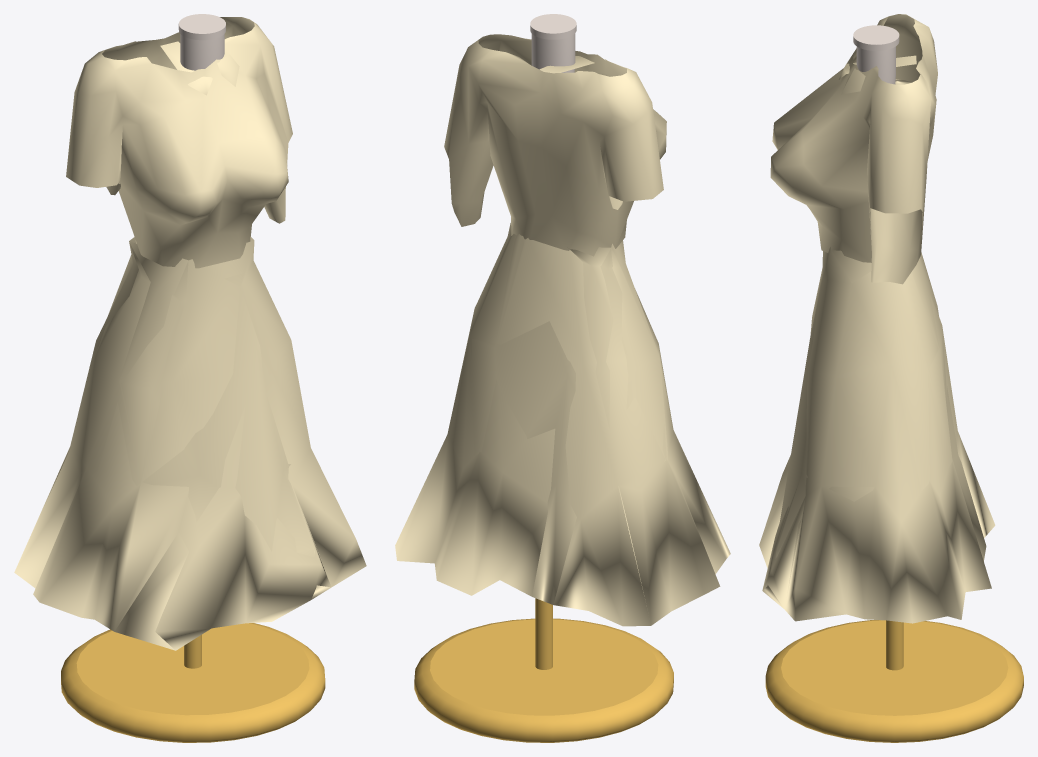
The model's file is rain.dress.ivory-midi.lod1.glb.
3 renders of one model, left to right at view 1: azimuth 30°, elevation 25°; view 2: azimuth 150°, elevation 25°; view 3: azimuth 270°, elevation 25°, orthographic. The views are drawn at different scales.
Parts seen in each view (by area): view 1: Tailored.Dress.ivory-midi.Fabric, Tailored.Dress.ivory-midi.Blouse, stand_base, stand_torso, Tailored.Dress.ivory-midi.FoldedCollar, stand_neck_cap; view 2: Tailored.Dress.ivory-midi.Fabric, Tailored.Dress.ivory-midi.Blouse, stand_base, stand_torso, stand_stem, stand_neck_cap; view 3: Tailored.Dress.ivory-midi.Fabric, Tailored.Dress.ivory-midi.Blouse, stand_base, stand_torso, stand_neck_cap, stand_stem, Tailored.Dress.ivory-midi.FoldedCollar.
Boxes of the visible parts, x1=… form: Tailored.Dress.ivory-midi.Fabric: x1=14, y1=236, x2=366, y2=650; Tailored.Dress.ivory-midi.Blouse: x1=66, y1=17, x2=292, y2=268; stand_base: x1=61, y1=623, x2=325, y2=742; stand_torso: x1=180, y1=34, x2=224, y2=70; Tailored.Dress.ivory-midi.FoldedCollar: x1=160, y1=41, x2=239, y2=95; stand_neck_cap: x1=178, y1=14, x2=225, y2=40; Tailored.Dress.ivory-midi.Fabric: x1=395, y1=223, x2=730, y2=626; Tailored.Dress.ivory-midi.Blouse: x1=444, y1=34, x2=666, y2=256; stand_base: x1=414, y1=618, x2=673, y2=742; stand_torso: x1=531, y1=33, x2=575, y2=72; stand_stem: x1=535, y1=598, x2=552, y2=669; stand_neck_cap: x1=530, y1=14, x2=576, y2=39; Tailored.Dress.ivory-midi.Fabric: x1=759, y1=247, x2=995, y2=623; Tailored.Dress.ivory-midi.Blouse: x1=770, y1=14, x2=937, y2=284; stand_base: x1=765, y1=620, x2=1023, y2=742; stand_torso: x1=856, y1=46, x2=895, y2=84; stand_neck_cap: x1=853, y1=25, x2=899, y2=50; stand_stem: x1=886, y1=620, x2=903, y2=670; Tailored.Dress.ivory-midi.FoldedCollar: x1=839, y1=55, x2=916, y2=94.
Size of the model in its own units: 0.3548 by 0.75 by 0.2732.
